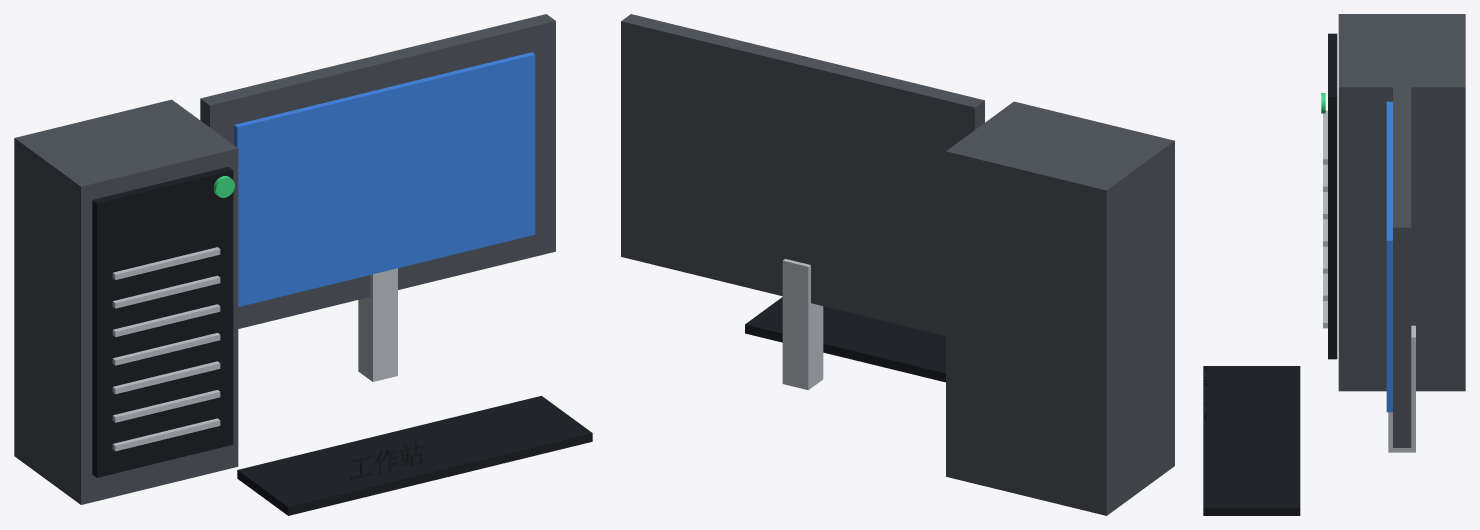
Rendered from asset_workstation.glb.
The picture shows the model from 3 angles, left to right: view 1: azimuth 30°, elevation 25°; view 2: azimuth 150°, elevation 25°; view 3: azimuth 270°, elevation 25°; orthographic projection. The views are drawn at different scales.
Parts seen in each view (by area): view 1: screen, tower, tower_front, monitor, keyboard, monitor_stand, front_slot_2, front_slot_0, front_slot_1, front_slot_6, front_slot_5, front_slot_3 (+2 smaller); view 2: tower, monitor, keyboard, monitor_stand; view 3: tower, keyboard, monitor, tower_front, screen, monitor_stand.
Part boxes in pixels (<box>): screen: <box>234,52,535,306</box>; tower: <box>14,99,238,504</box>; tower_front: <box>92,166,233,477</box>; monitor: <box>200,14,555,328</box>; keyboard: <box>237,396,592,515</box>; monitor_stand: <box>358,268,397,381</box>; front_slot_2: <box>112,361,220,394</box>; front_slot_0: <box>112,418,220,451</box>; front_slot_1: <box>112,390,220,422</box>; front_slot_6: <box>112,247,220,279</box>; front_slot_5: <box>112,275,220,308</box>; front_slot_3: <box>112,333,220,365</box>; tower: <box>946,101,1174,515</box>; monitor: <box>621,14,984,335</box>; keyboard: <box>745,297,945,382</box>; monitor_stand: <box>782,259,823,390</box>; tower: <box>1338,14,1465,391</box>; keyboard: <box>1203,366,1300,515</box>; monitor: <box>1393,66,1411,447</box>; tower_front: <box>1328,33,1337,359</box>; screen: <box>1386,101,1392,412</box>; monitor_stand: <box>1388,325,1415,452</box>.
Size of the model in its own units: 2.4 by 1.55 by 1.13.
